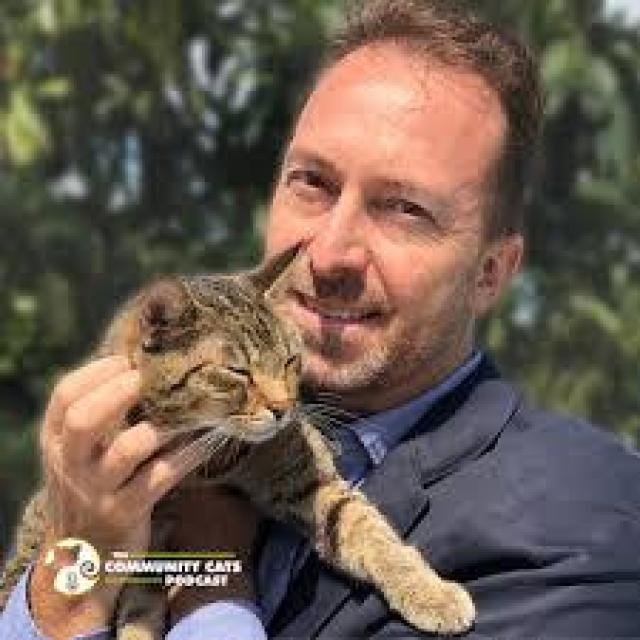Cat: (130, 240, 318, 450)
